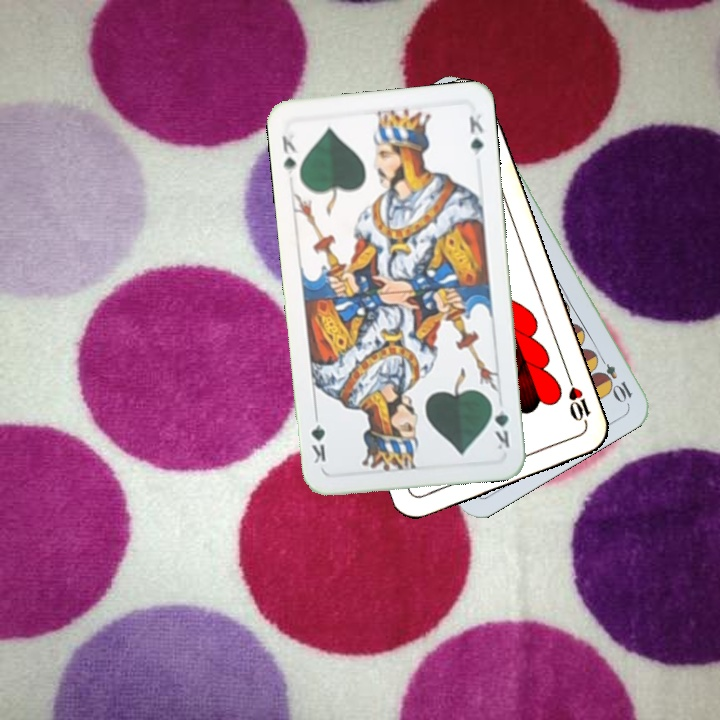E10: (593, 350, 635, 405)
GK: (487, 396, 512, 452), (278, 130, 301, 178)
H10: (563, 372, 593, 429)
